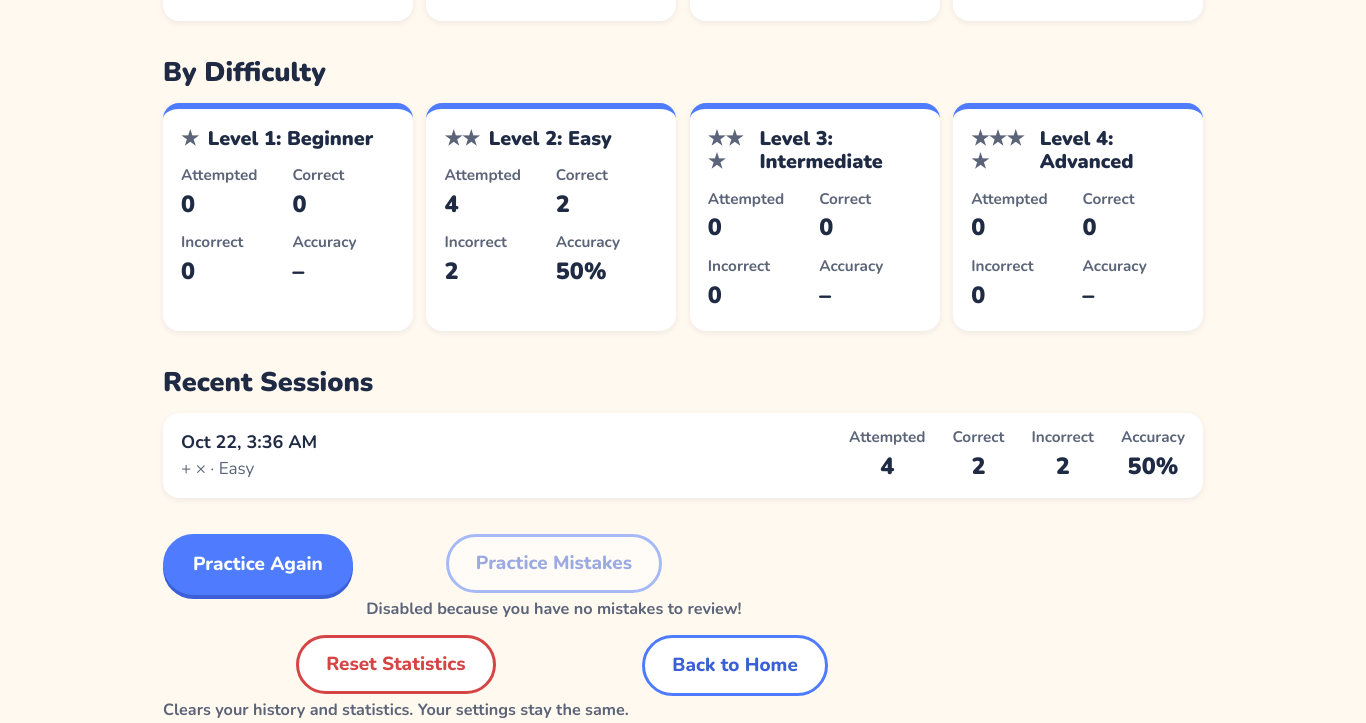
Test: StatisticsPage › resets statistics after confirmation but keeps settings
The image size is (1366, 723).
(page scrolled)
Click the button "Reset Statistics" at (396, 664), box [296,635,496,694]
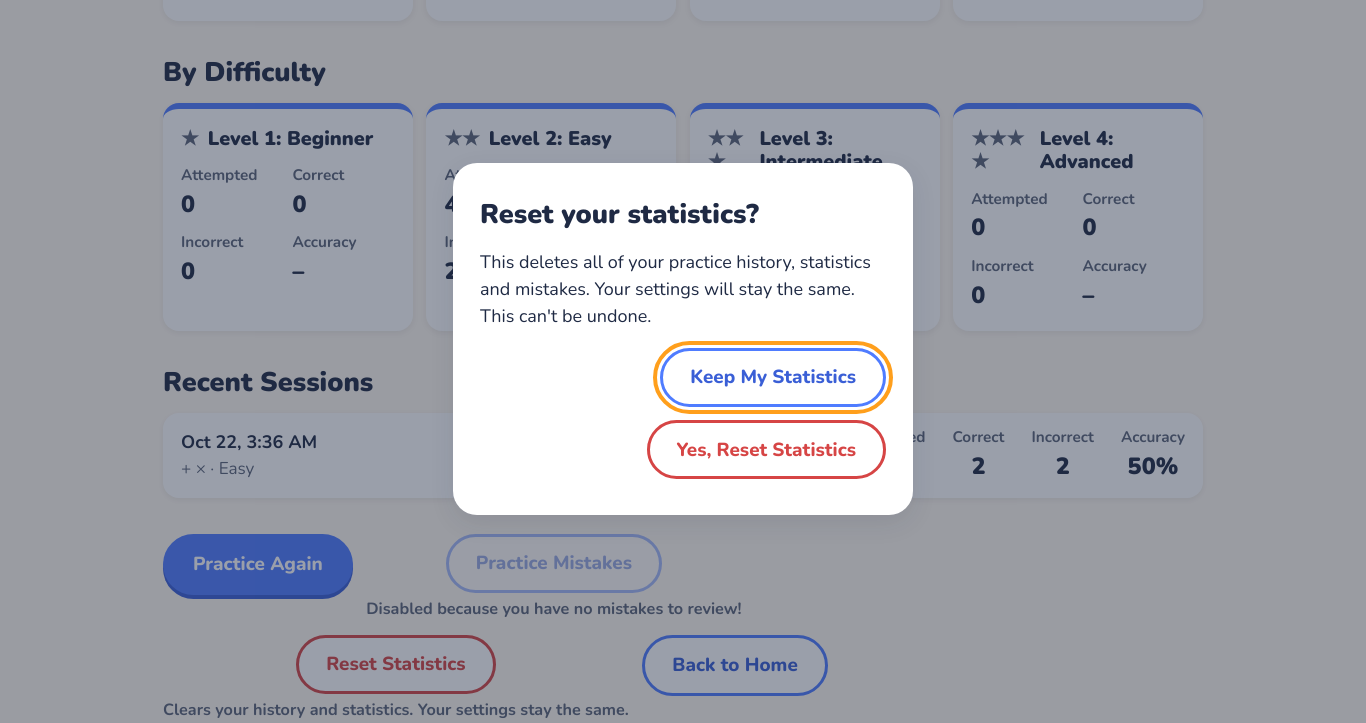
Click the button "Keep My Statistics" at (773, 377), box [660,348,886,407]
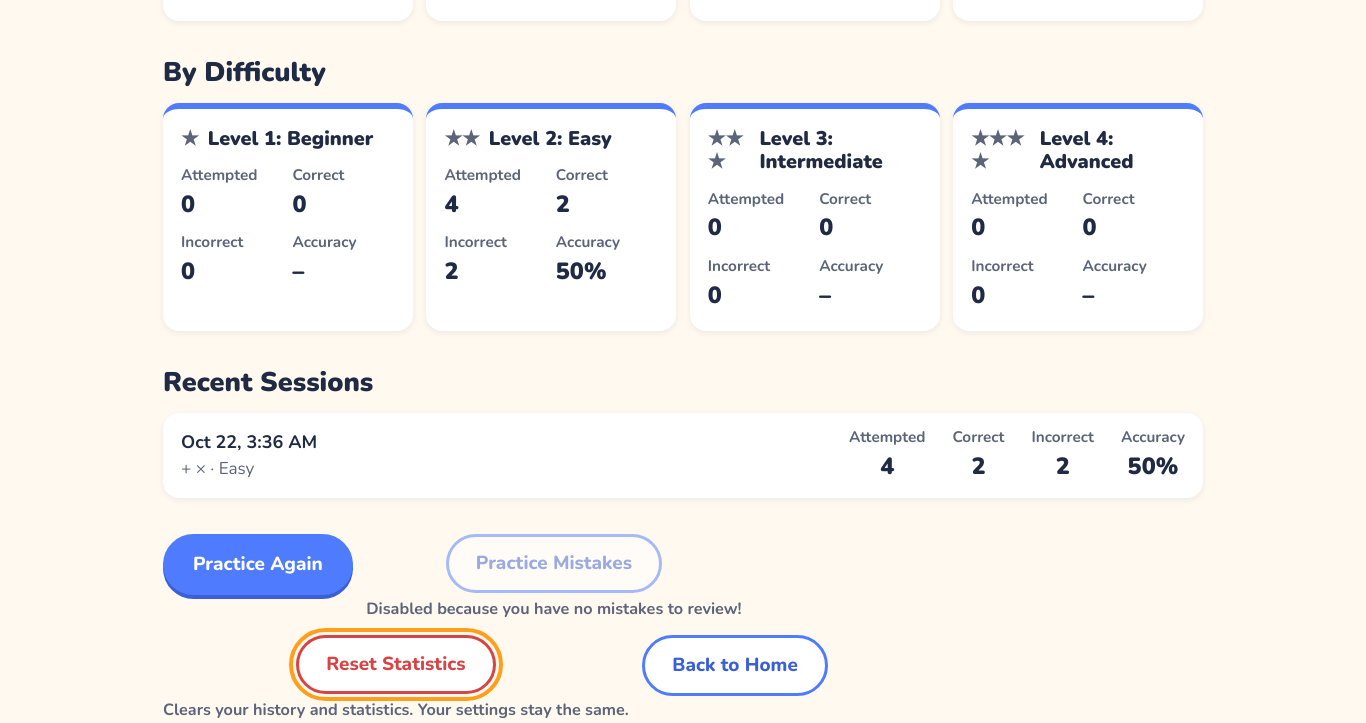
Click the button "Reset Statistics" at (396, 664), box [296,635,496,694]
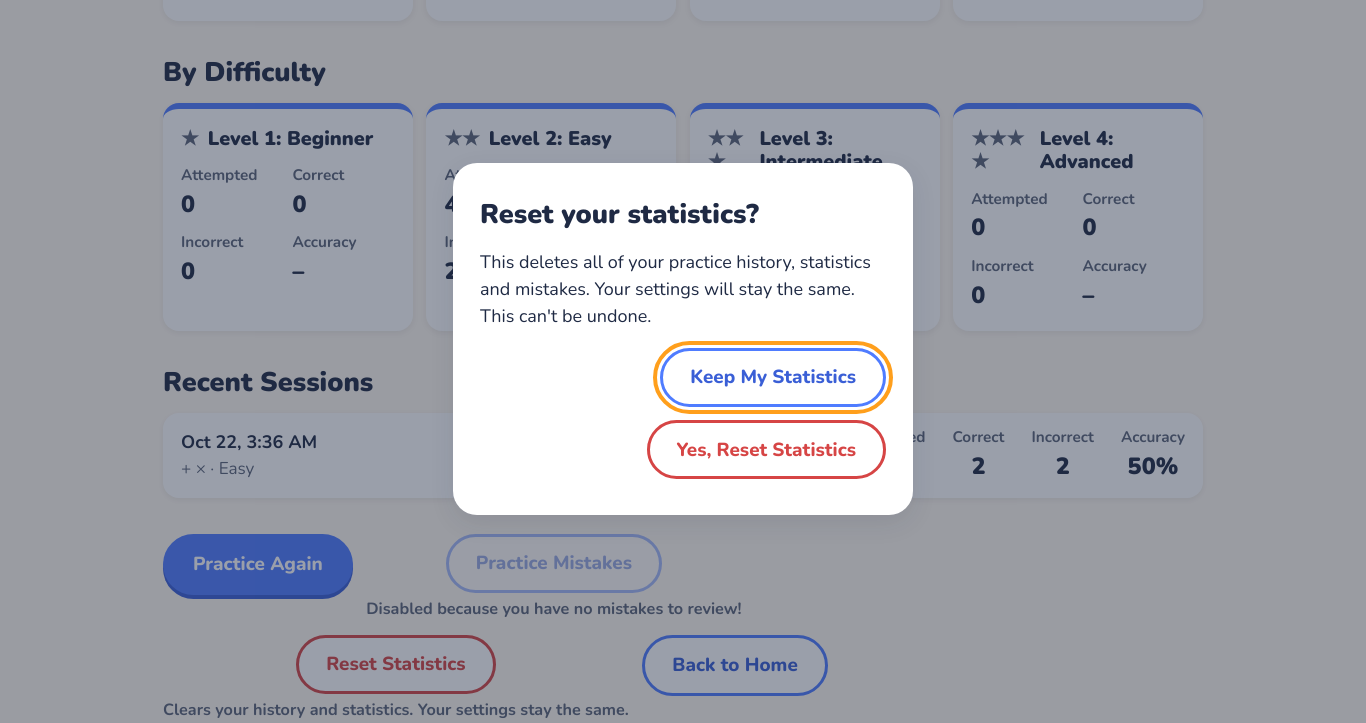
Click the button "Yes, Reset Statistics" at (766, 450), box [646,420,886,479]
(page scrolled)
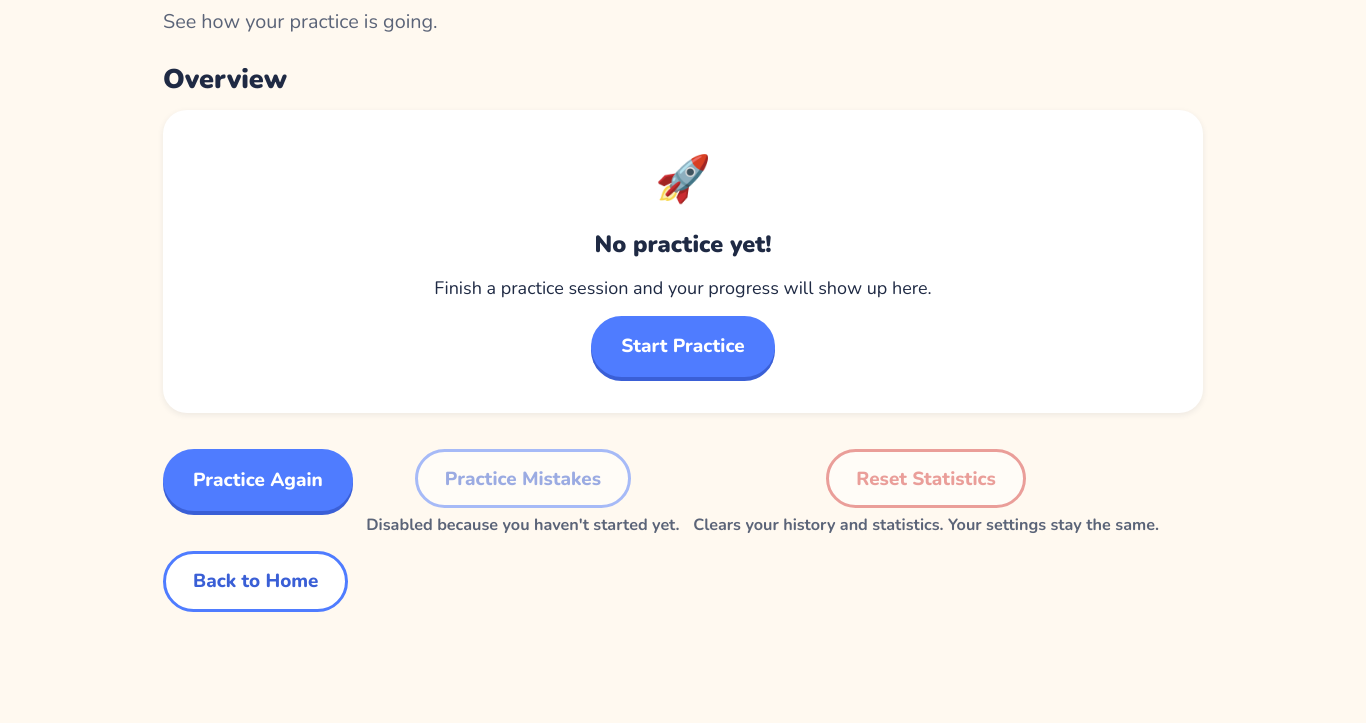
Expected: the text "No practice yet!" is shown, [594,227,772,262]
